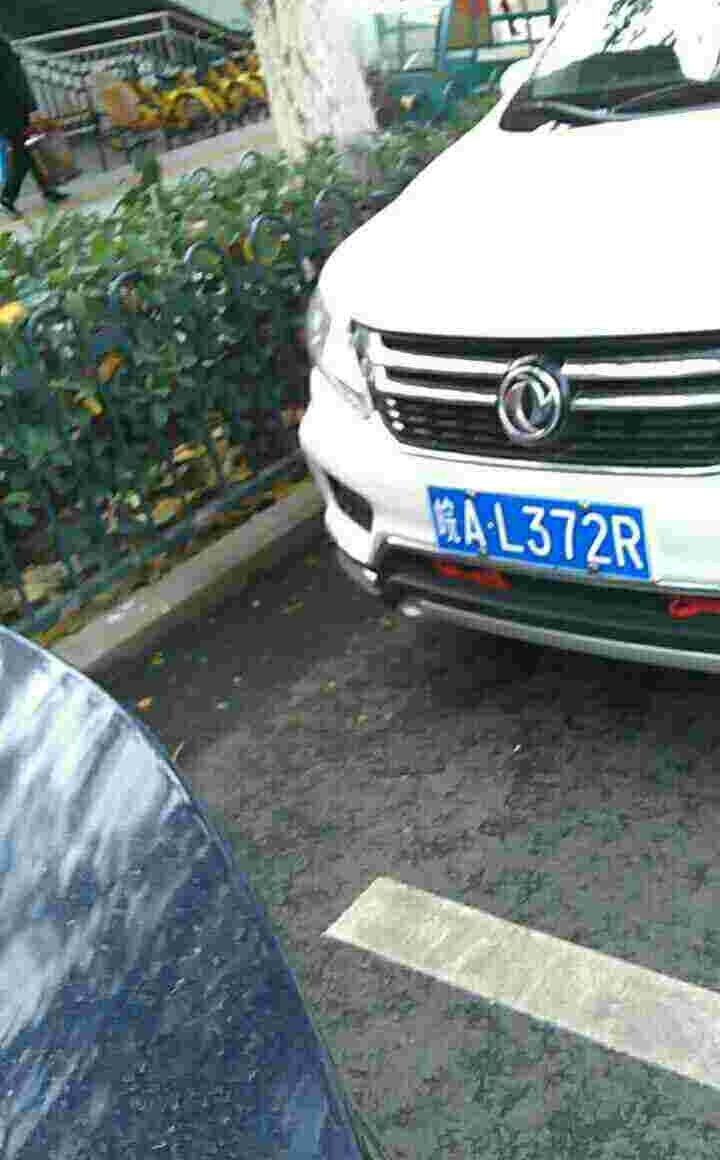license_plate: (420, 486, 662, 587)
